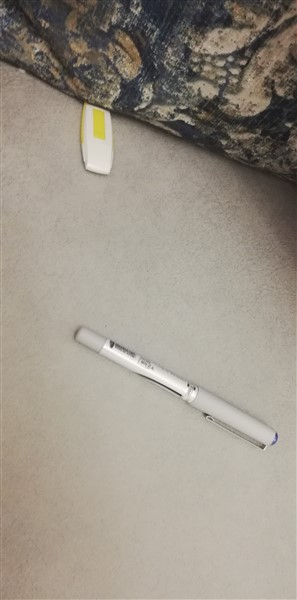flash disk: (78, 89, 122, 182)
pilot kalem: (68, 321, 283, 455)
